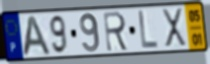9: (78, 12, 101, 54), (48, 14, 69, 55)
A: (21, 14, 53, 58)
L: (137, 9, 159, 50)
R: (102, 10, 130, 54)
X: (160, 7, 188, 49)
